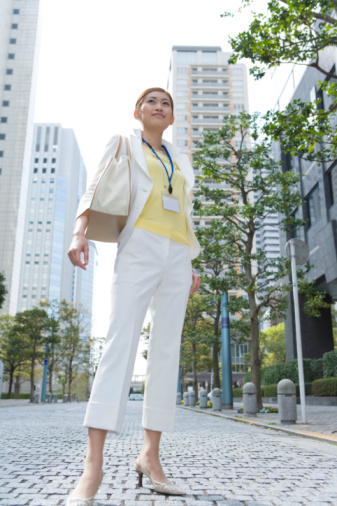em pe: (64, 59, 210, 506)
